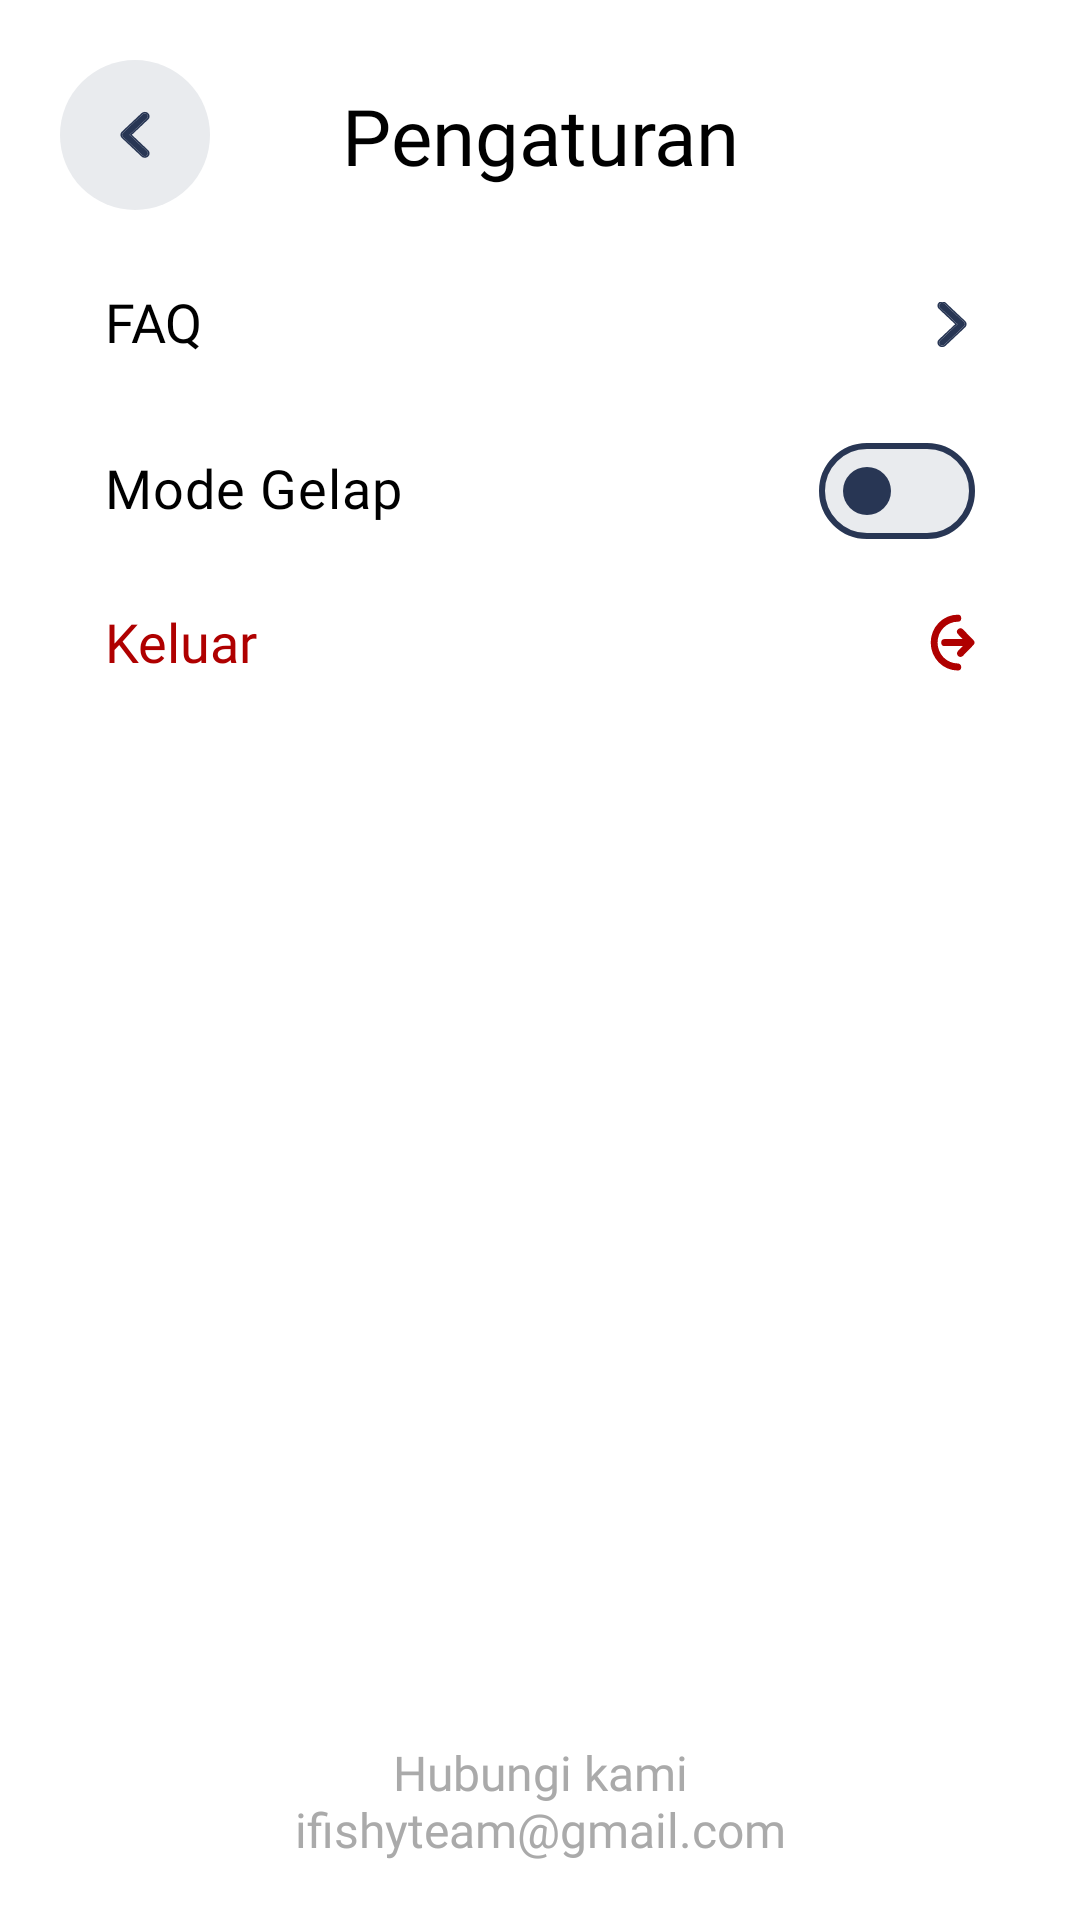

Named icons in this screenshot (1080px x 1920px) and their bounding boxes, region(x1, y1, x2, y2):
Kembali: region(60, 60, 210, 210)
